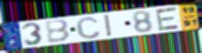3: (21, 22, 44, 46)
8: (132, 10, 155, 34)
B: (44, 19, 73, 44)
C: (75, 16, 103, 40)
E: (155, 6, 182, 32)
I: (102, 13, 114, 38)
